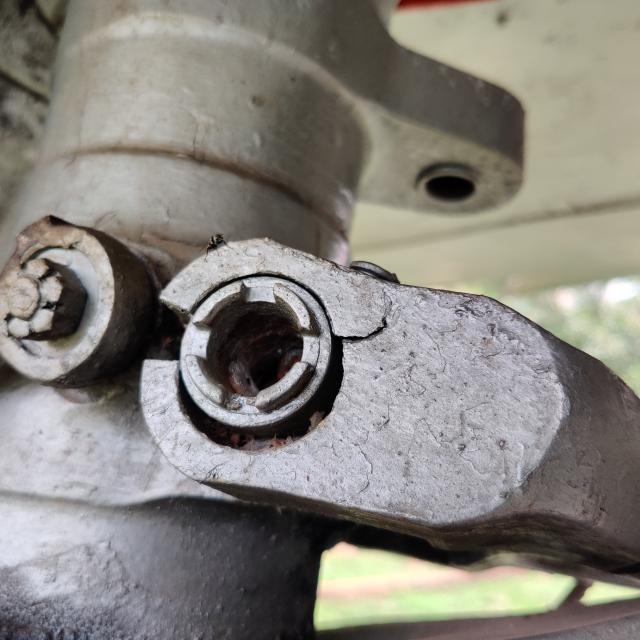crack: (333, 293, 400, 349)
